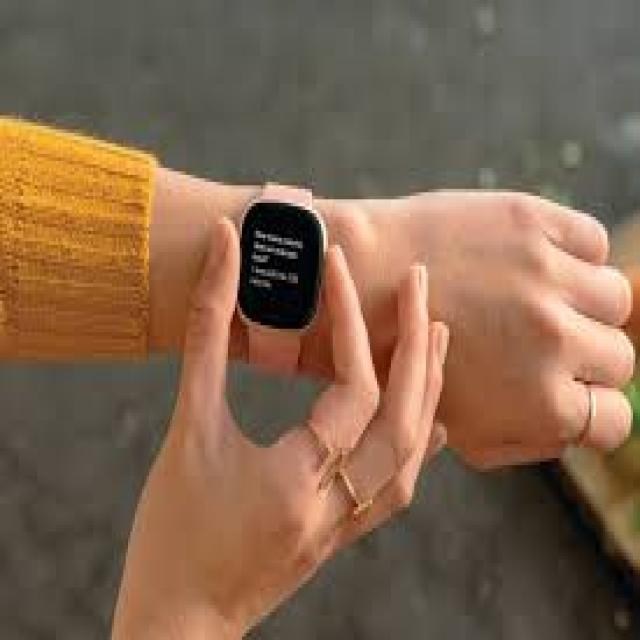objects: (224, 172, 330, 386)
